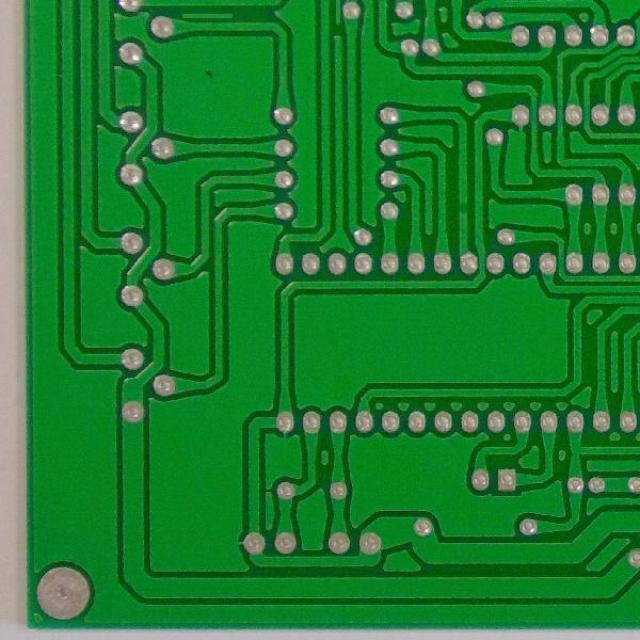spurious_copper: (176, 6, 237, 24), (330, 1, 348, 27)
